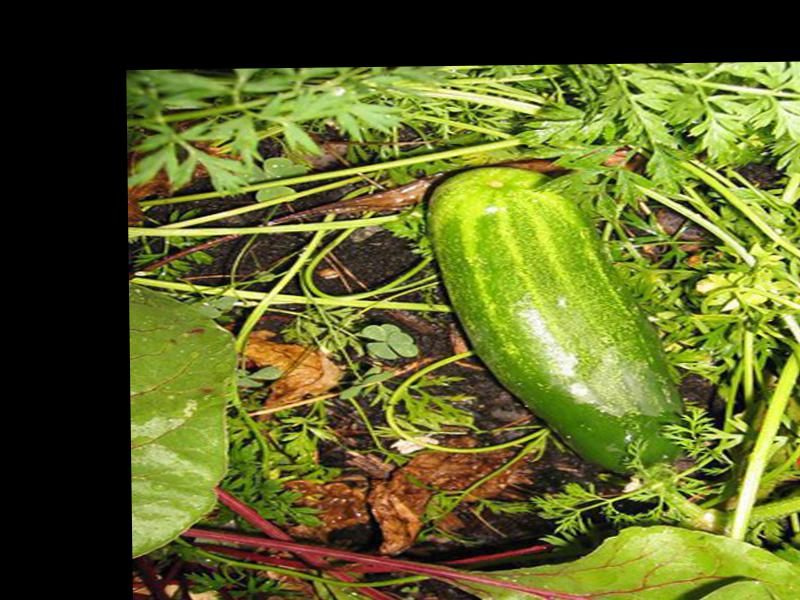Cucumber: (424, 169, 697, 477)
